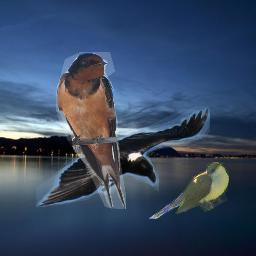Crow: (36, 106, 210, 207)
Cuckoo: (148, 162, 229, 219)
Swallow: (56, 52, 126, 209)
